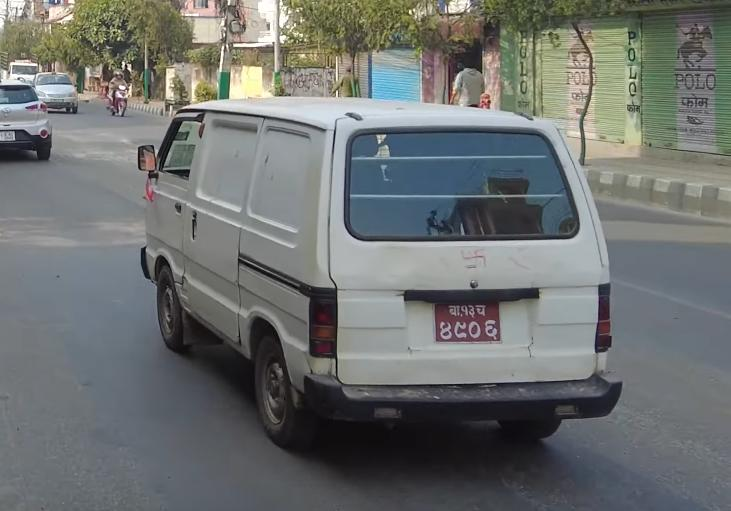car: (0, 79, 55, 167), (33, 69, 82, 114)
scooter: (103, 78, 130, 118)
van: (129, 90, 629, 471)
